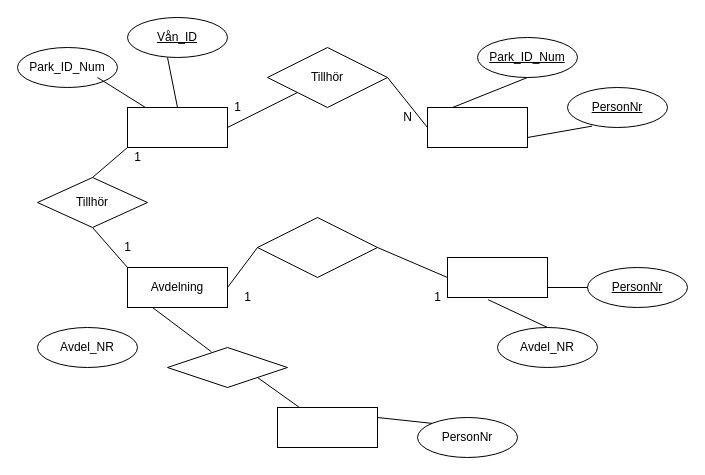
Some shapes in this 705 by 475 pixel diagram are drawn without their labels. The centre of each missing label's shape, as x and y in pixels:
"Anställd" belongs at point 327,427.
"Har" belongs at point 227,367.
"Kontrollant" belongs at point 497,277.
"parkeringsruta" belongs at point 477,127.
"Utses" belongs at point 317,247.
"våning" belongs at point 177,127.
